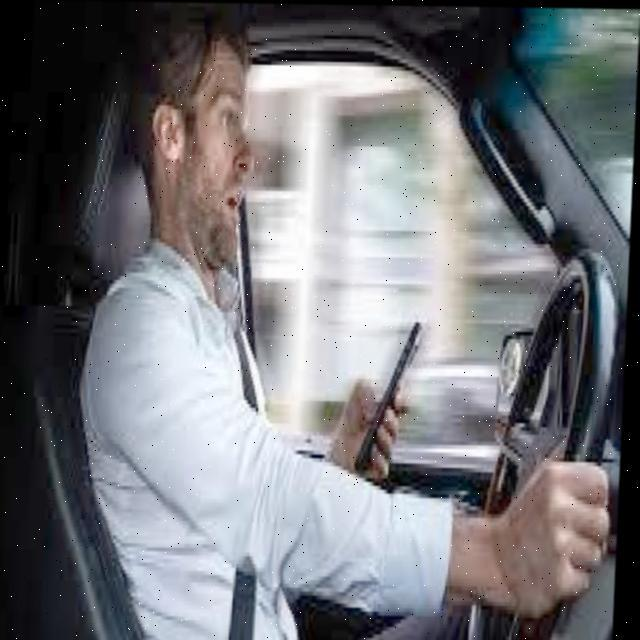seatbelt: (149, 280, 304, 640)
